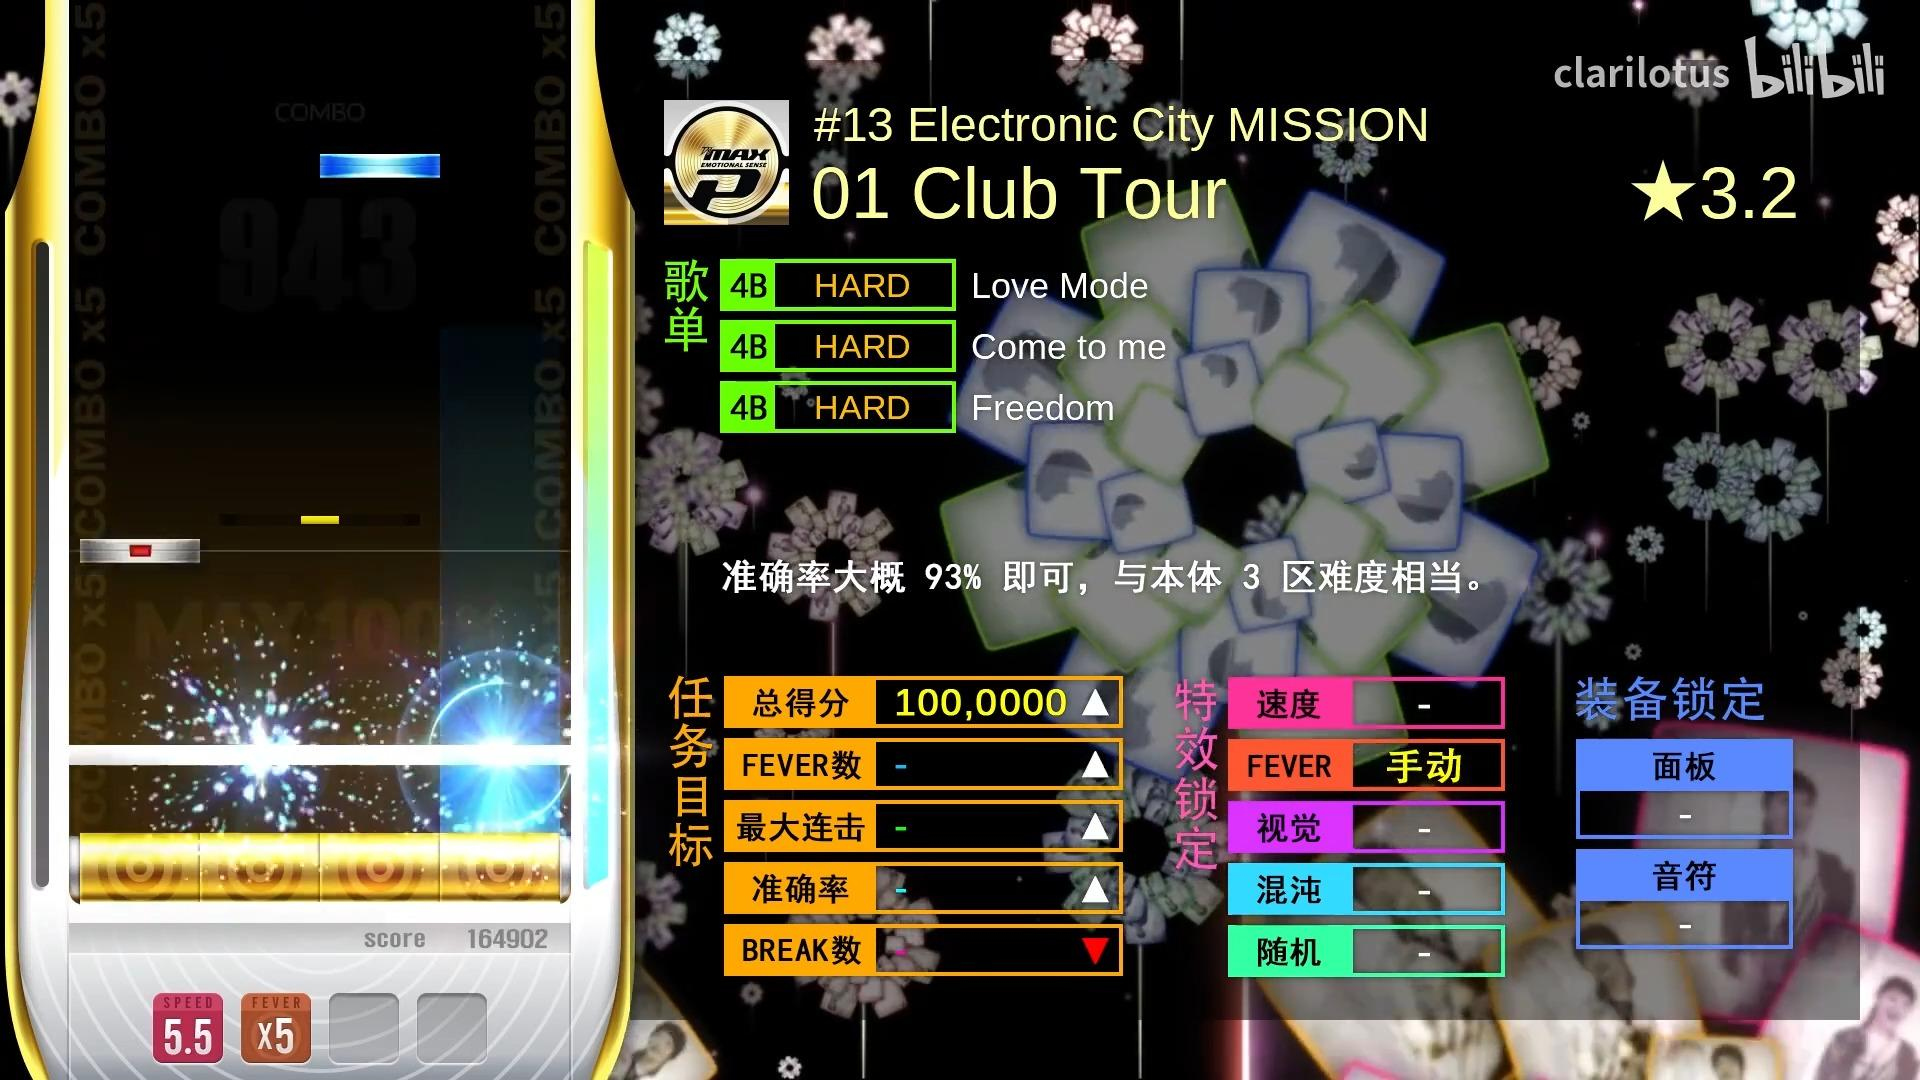note: (80, 538, 200, 564), (320, 153, 440, 178)
